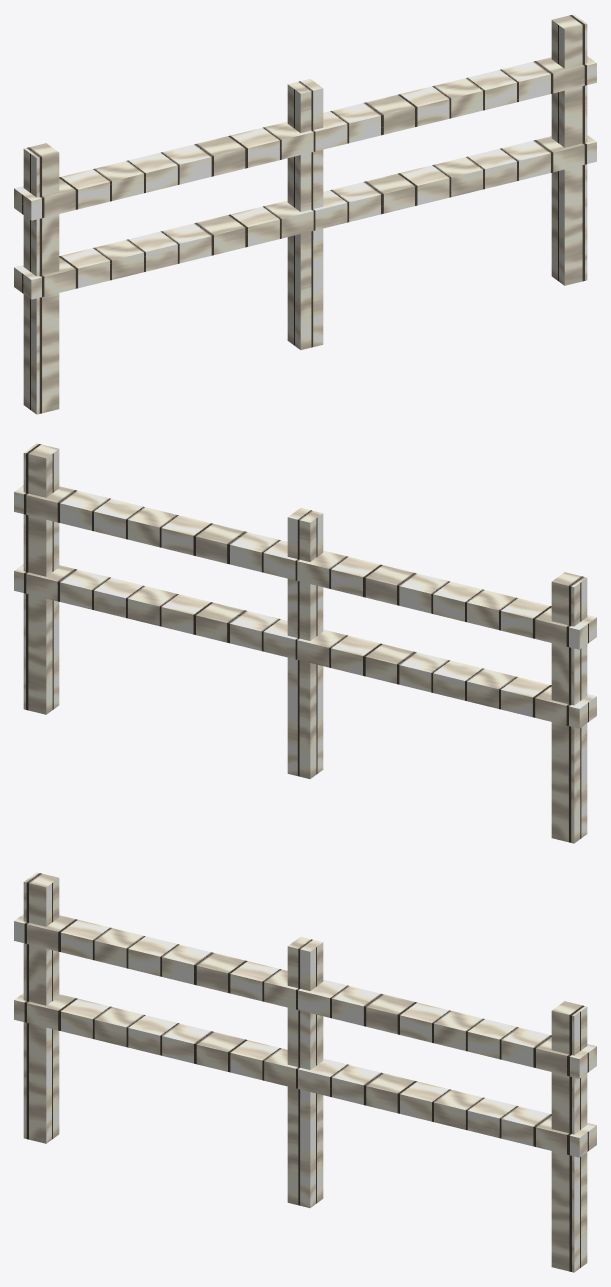
The model's file is staccionata_v5.obj.
The picture shows the model from 3 angles, top to bottom: view 1: azimuth 30°, elevation 25°; view 2: azimuth 150°, elevation 25°; view 3: azimuth 330°, elevation 25°; orthographic projection.
Visible parts, largest first — view 1: staccionata_v5; view 2: staccionata_v5; view 3: staccionata_v5.
Boxes of the visible parts, box(x1,y1,x2,y2) form: staccionata_v5: box(14, 14, 596, 414); staccionata_v5: box(14, 443, 596, 843); staccionata_v5: box(14, 872, 596, 1272).
Size of the model in its own units: 3 by 1.3 by 0.16.
Materials: 2 (2 with a texture image).
